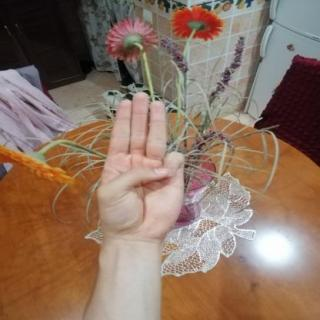THA: (84, 85, 200, 247)
